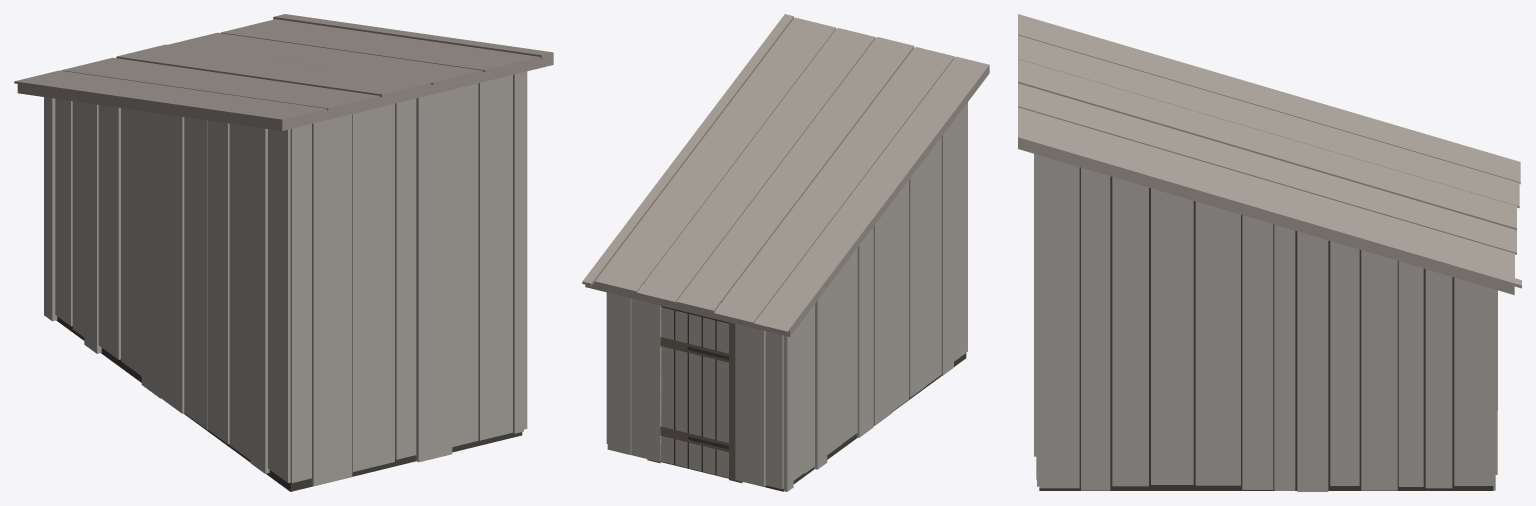
The model's file is recon_1835_blk_indiana_north_wolcott_a4_07__inferred_1835.glb.
3 views of the same model, side by side, from view 1: azimuth 30°, elevation 25°; view 2: azimuth 150°, elevation 25°; view 3: azimuth 270°, elevation 25° (orthographic). The views are drawn at different scales.
Parts seen in each view (by area): view 1: recon_1835_blk_indiana_north_wolcott_a4_07__inferred_1835; view 2: recon_1835_blk_indiana_north_wolcott_a4_07__inferred_1835; view 3: recon_1835_blk_indiana_north_wolcott_a4_07__inferred_1835.
Part boxes in pixels (x1=…): recon_1835_blk_indiana_north_wolcott_a4_07__inferred_1835: x1=14, y1=14, x2=553, y2=491; recon_1835_blk_indiana_north_wolcott_a4_07__inferred_1835: x1=582, y1=14, x2=989, y2=491; recon_1835_blk_indiana_north_wolcott_a4_07__inferred_1835: x1=1018, y1=14, x2=1521, y2=491.
Bounding box in the file's own units: 2.56 × 3.49 × 4.39.
